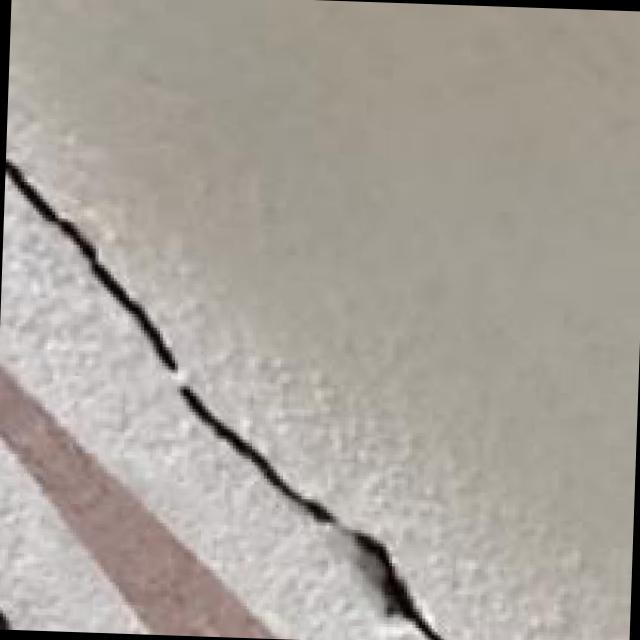crack: (0, 136, 444, 637)
